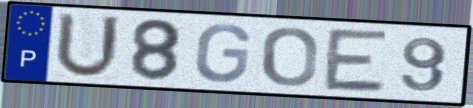8: (127, 17, 183, 83)
9: (398, 36, 450, 93)
E: (321, 26, 392, 95)
G: (192, 22, 253, 85)
O: (260, 25, 320, 89)
U: (51, 10, 123, 81)
